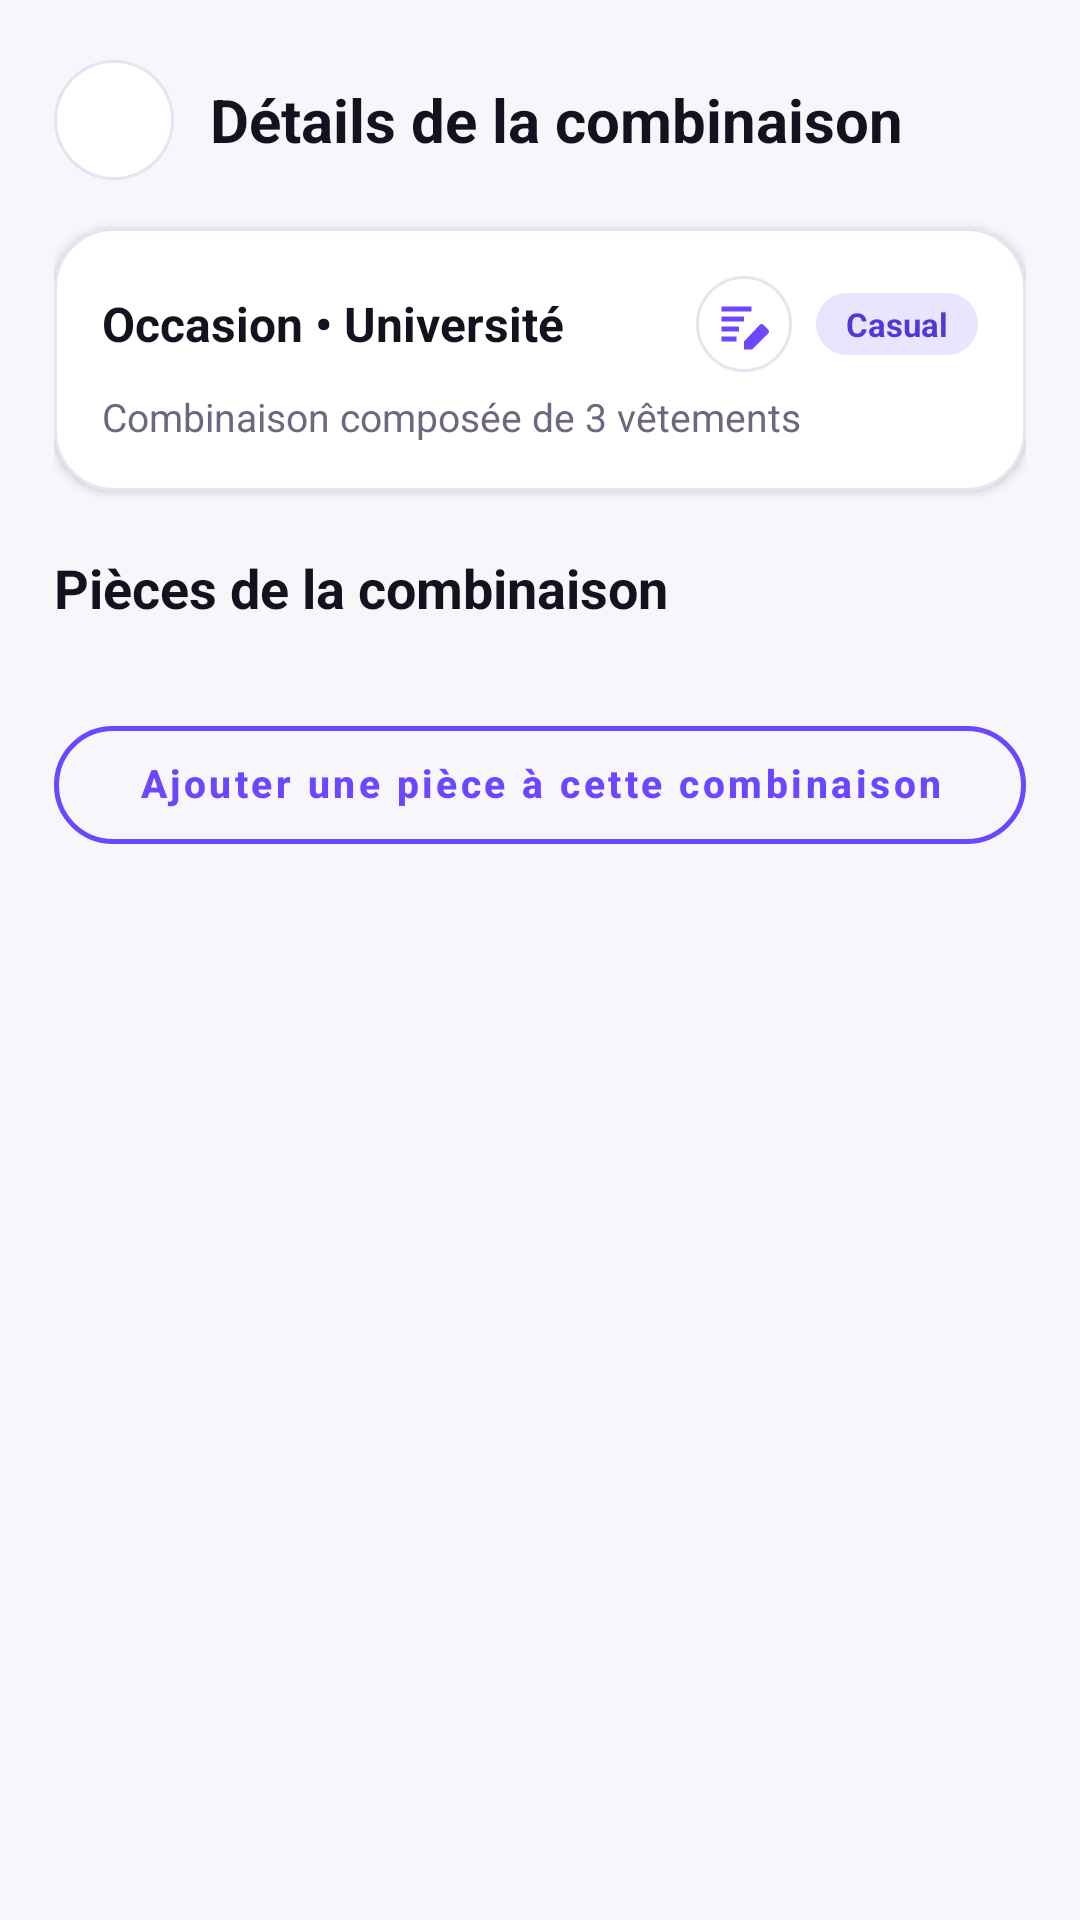

Where icons sit on this 1080 x 1920 app screen, as (x1, y1, x2, y2):
Modifier le type: (696, 276, 792, 372)
